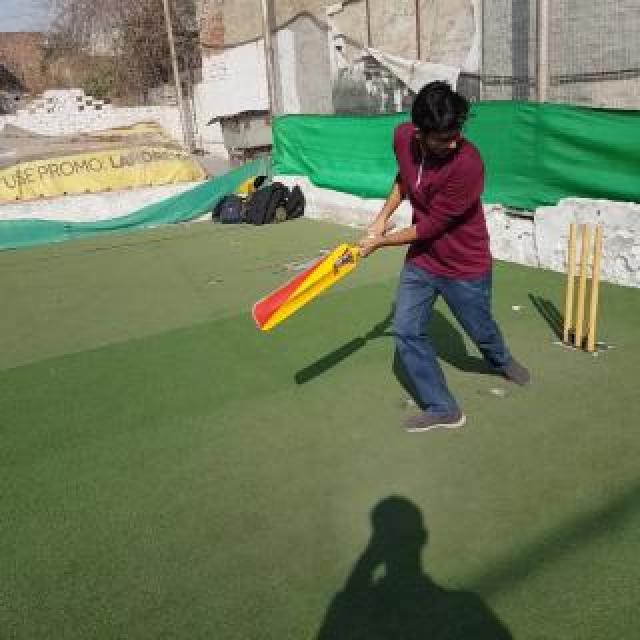bat: (250, 220, 398, 332)
